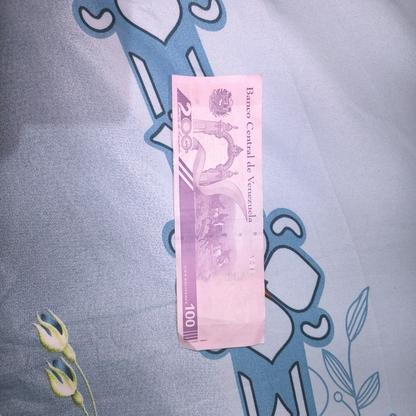vef_back: (171, 75, 266, 350)
